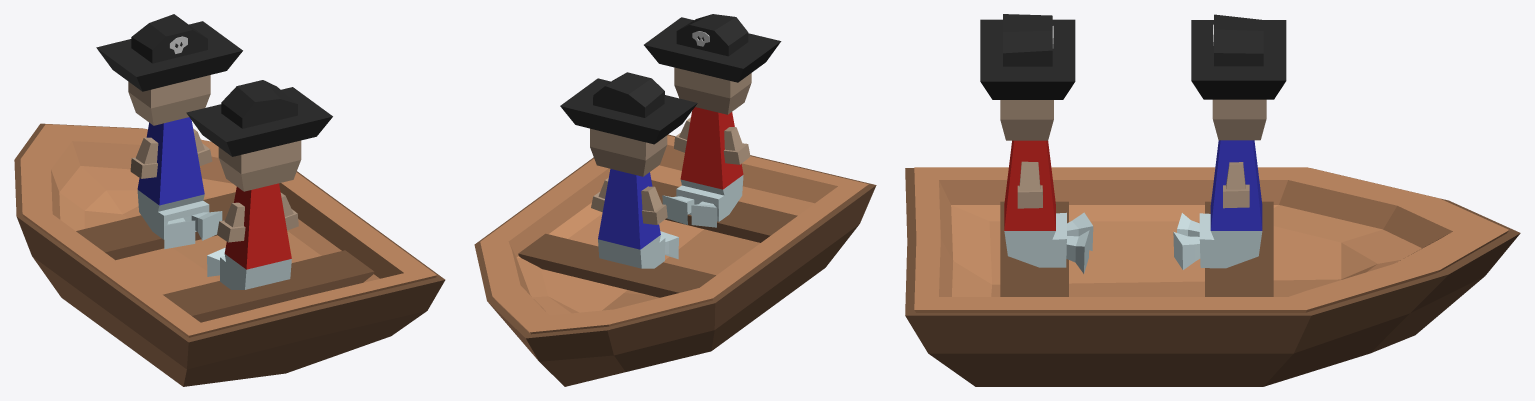
The model's file is BoatW2Pirates.fbx.
3 views of the same model, side by side, from view 1: azimuth 30°, elevation 25°; view 2: azimuth 150°, elevation 25°; view 3: azimuth 270°, elevation 25° (orthographic). The views are drawn at different scales.
Parts seen in each view (by area): view 1: Boat; view 2: Boat; view 3: Boat.
Part boxes in pixels (x1=…): Boat: x1=14, y1=14, x2=445, y2=386; Boat: x1=474, y1=14, x2=876, y2=386; Boat: x1=905, y1=14, x2=1520, y2=386.
Bounding box in the file's own units: 317 × 317 × 558.
